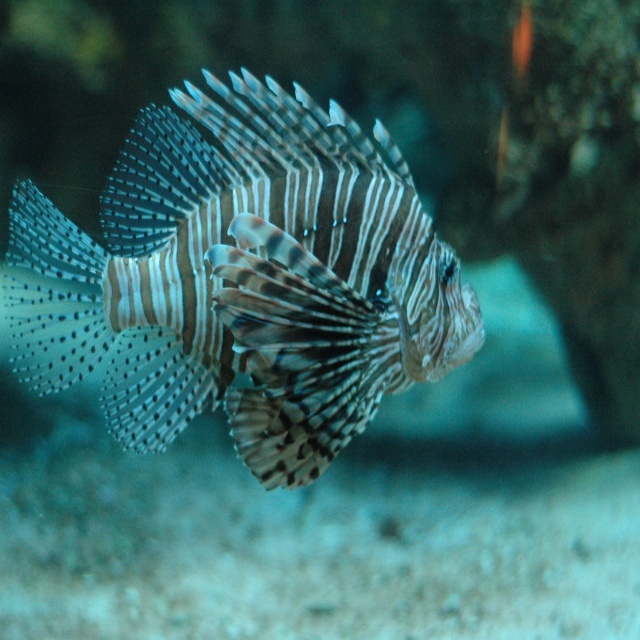Fish: (1, 67, 485, 491)
